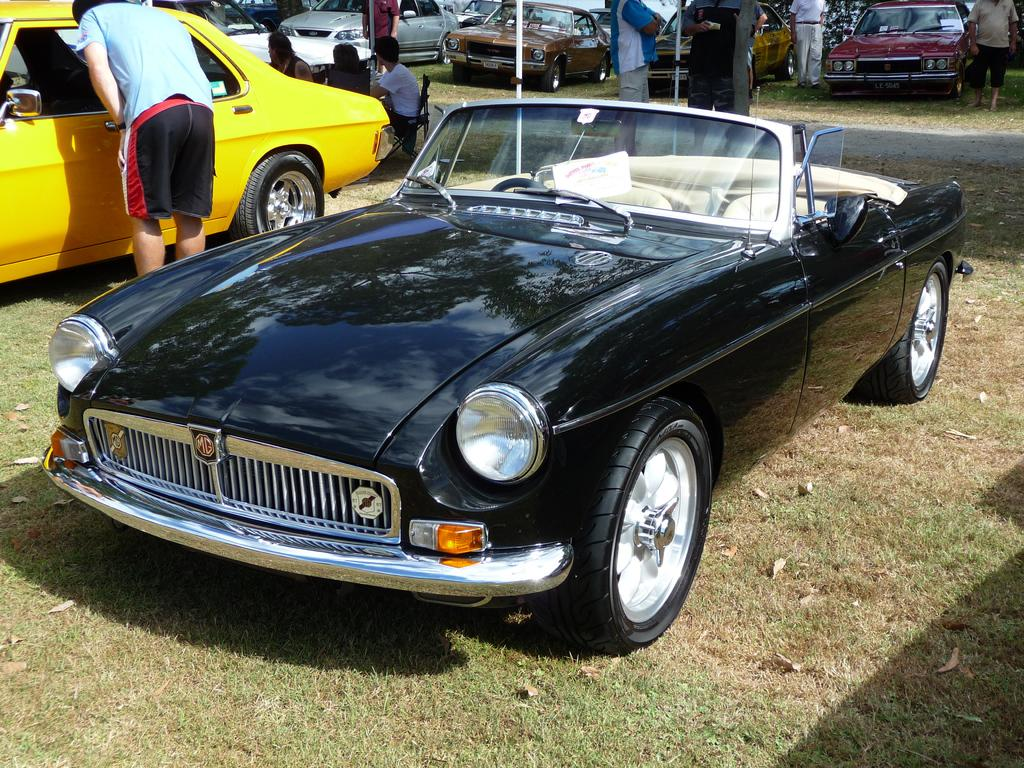taxi: (1, 1, 403, 286)
